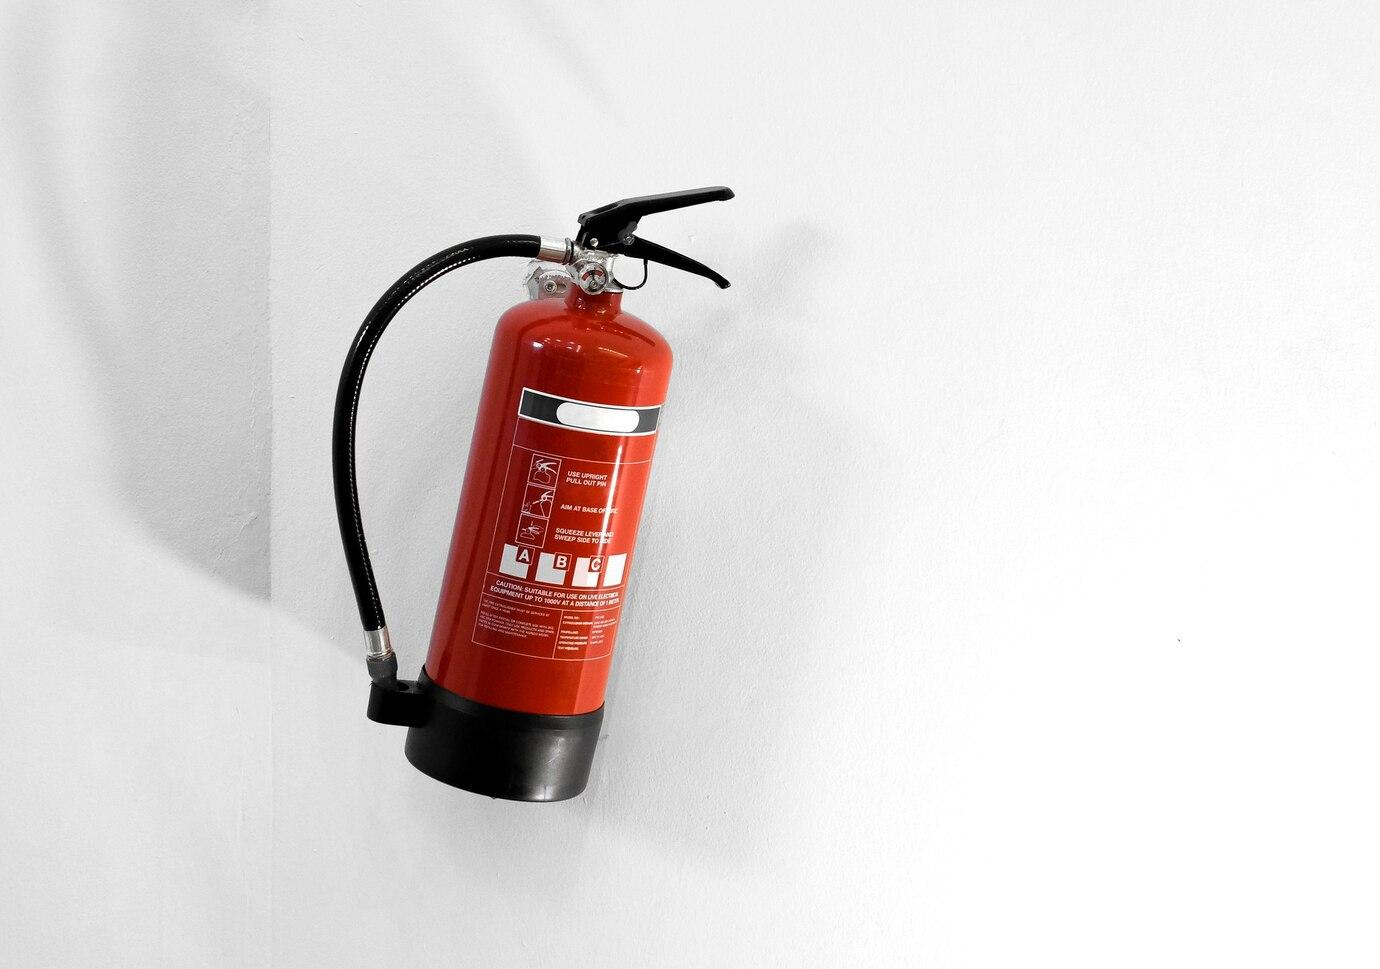wall-mounted: (283, 95, 801, 861)
